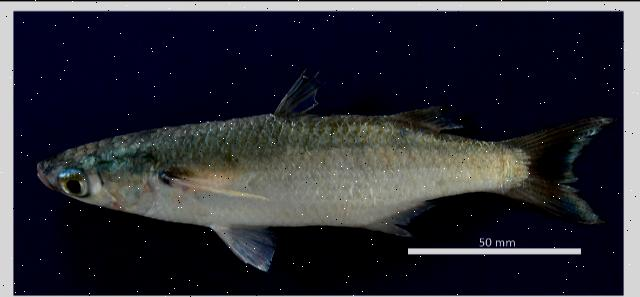Mulut: (34, 148, 66, 198)
Sirip Anal: (362, 188, 452, 250)
Sirip Dada: (162, 163, 274, 209)
Sirip Ekor: (508, 109, 618, 233)
Sirip Perut: (202, 211, 284, 278)
Sirip Punggung: (270, 59, 464, 133)
